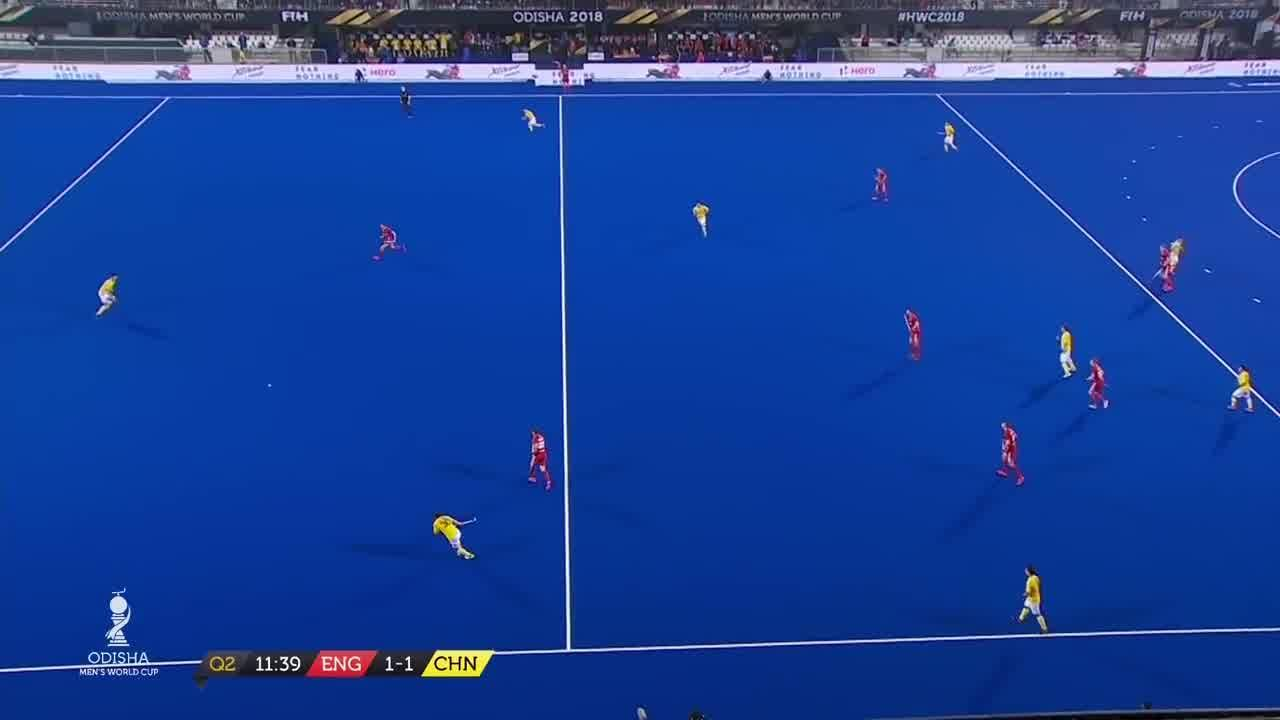ball: (267, 384, 277, 388)
